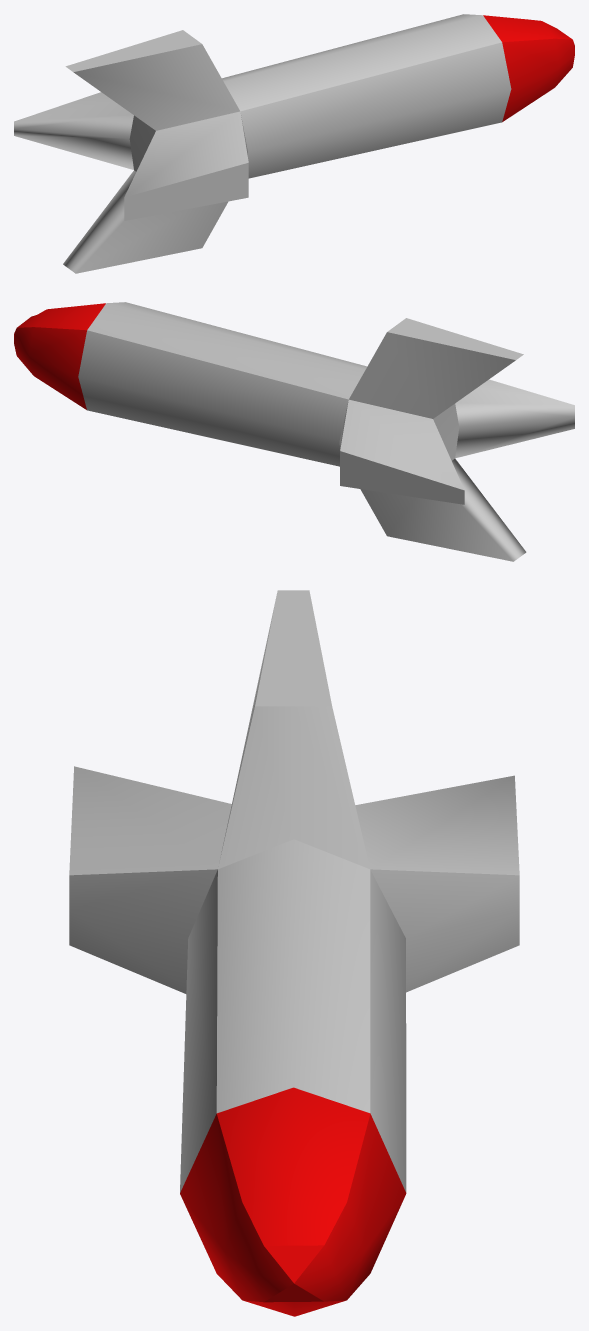
The model's file is Missile 1.fbx.
3 renders of one model, top to bottom at view 1: azimuth 30°, elevation 25°; view 2: azimuth 150°, elevation 25°; view 3: azimuth 270°, elevation 25°, orthographic. The views are drawn at different scales.
Parts seen in each view (by area): view 1: pCube3; view 2: pCube3; view 3: pCube3.
Part boxes in pixels (bbox=[...]): pCube3: bbox=[14, 14, 574, 273]; pCube3: bbox=[14, 302, 574, 561]; pCube3: bbox=[69, 590, 519, 1316].
Bounding box in the file's own units: 28.68 × 11.06 × 11.06.
